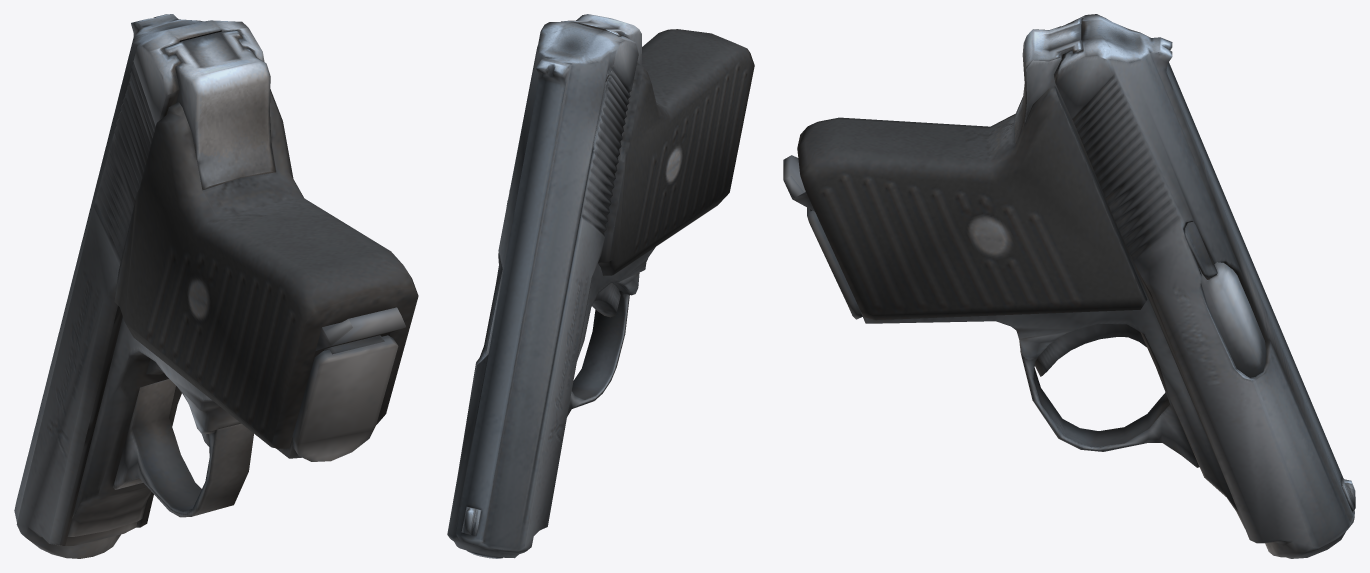
The model's file is JenningsJ22Melee.fbx.
3 renders of one model, left to right at view 1: azimuth 30°, elevation 25°; view 2: azimuth 150°, elevation 25°; view 3: azimuth 270°, elevation 25°, orthographic. The views are drawn at different scales.
Visible parts, largest first — view 1: Jennnings22; view 2: Jennnings22; view 3: Jennnings22.
Boxes of the visible parts, x1,y1,x2,y2 form: Jennnings22: (14, 14, 418, 558); Jennnings22: (447, 14, 754, 558); Jennnings22: (783, 14, 1355, 558).
Bounding box in the file's own units: 0.0183 × 0.0936 × 0.0928.
